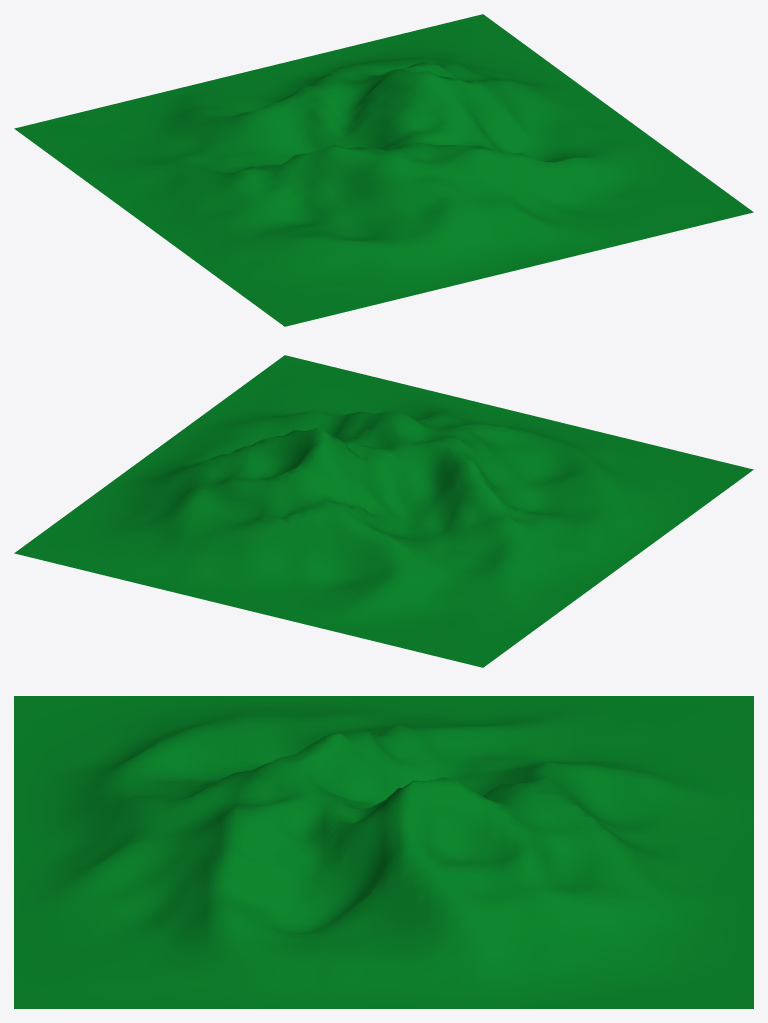
File: Irregular Ground.fbx
The picture shows the model from 3 angles, top to bottom: view 1: azimuth 30°, elevation 25°; view 2: azimuth 150°, elevation 25°; view 3: azimuth 270°, elevation 25°; orthographic projection. The views are drawn at different scales.
Visible parts, largest first — view 1: Irregular_Ground; view 2: Irregular_Ground; view 3: Irregular_Ground.
Boxes of the visible parts, x1,y1,x2,y2 form: Irregular_Ground: [14, 14, 753, 326]; Irregular_Ground: [14, 355, 753, 667]; Irregular_Ground: [14, 696, 753, 1008].
Bounding box in the file's own units: 800 × 127 × 800.
